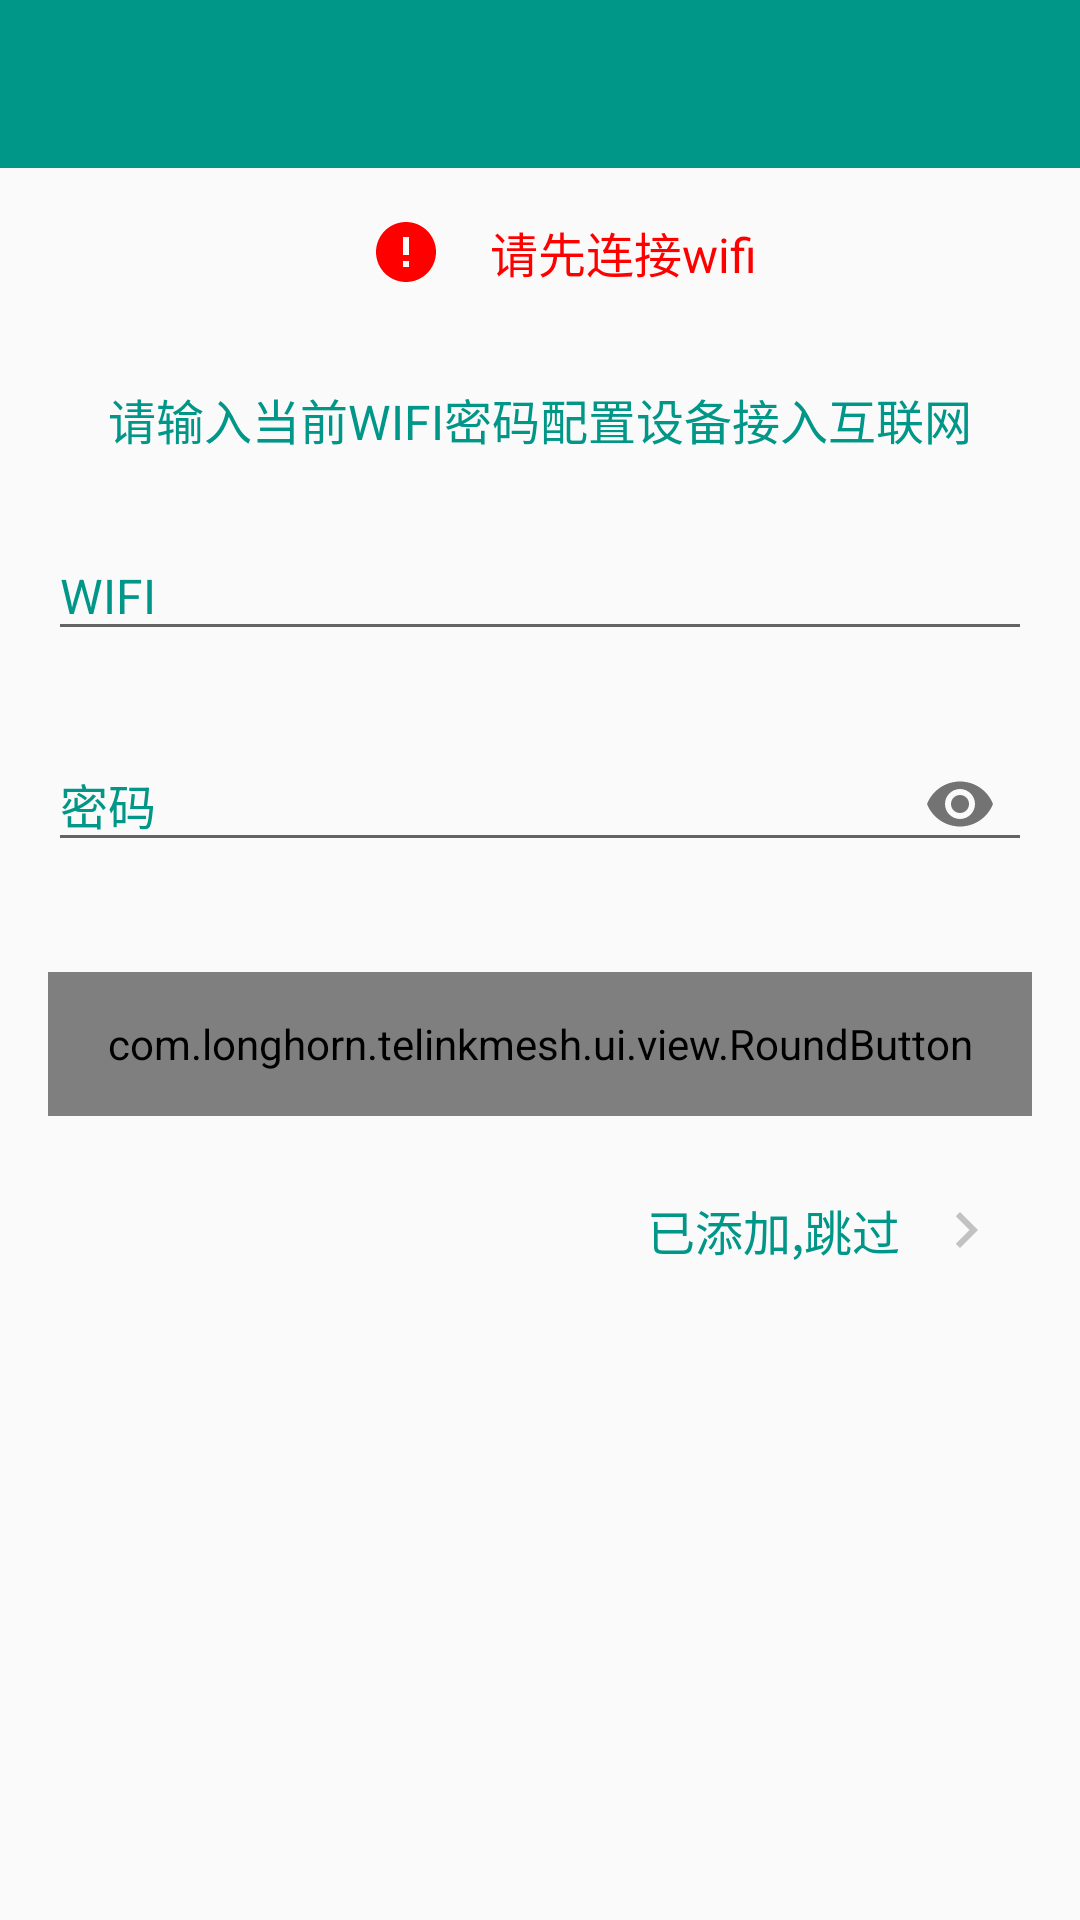

Locate icon controls on the screen. Image size 1080x1920, boxes as (x1, y1, x2, y2).
chevron right: (956, 1212, 978, 1248)
error: (376, 222, 436, 282)
